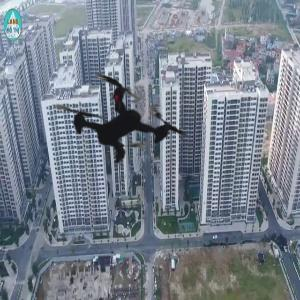drone: (30, 28, 218, 216)
